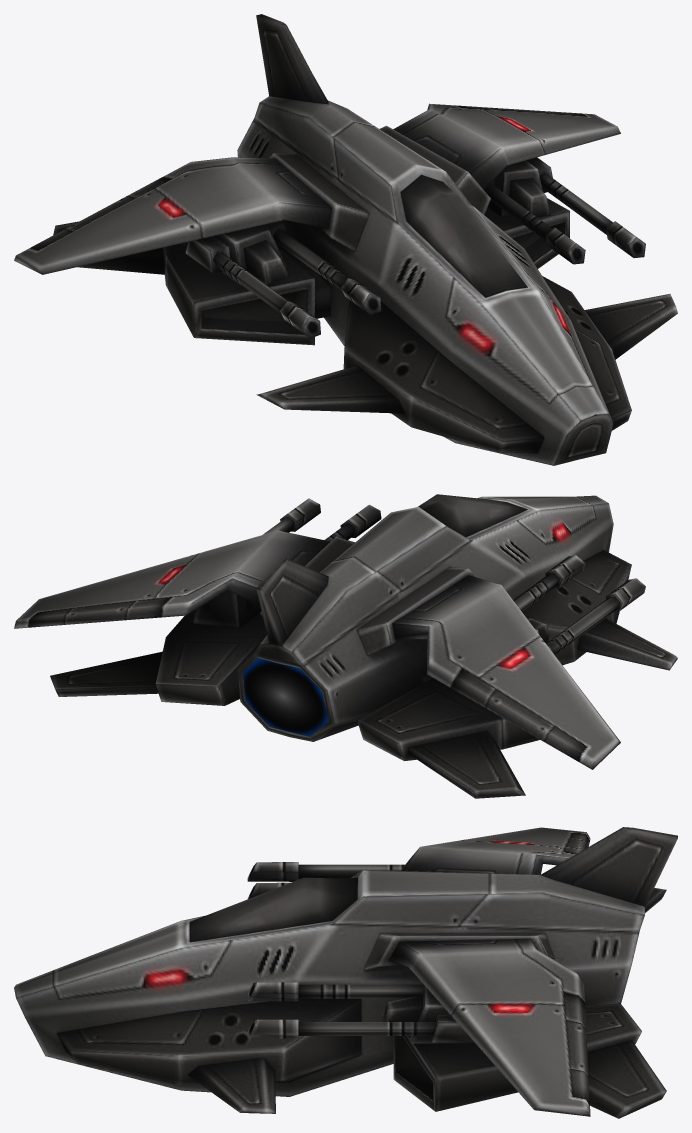
Rendered from 01Ship 1.fbx.
3 renders of one model, top to bottom at view 1: azimuth 30°, elevation 25°; view 2: azimuth 150°, elevation 25°; view 3: azimuth 270°, elevation 25°, orthographic.
Visible parts, largest first — view 1: small_space_ship_1_003; view 2: small_space_ship_1_003; view 3: small_space_ship_1_003.
Part boxes in pixels (left/top/right/bottom): small_space_ship_1_003: left=14, top=14, right=677, bottom=465; small_space_ship_1_003: left=14, top=494, right=677, bottom=798; small_space_ship_1_003: left=14, top=827, right=677, bottom=1118.
Bounding box in the file's own units: 24.58 × 9.77 × 24.8.
